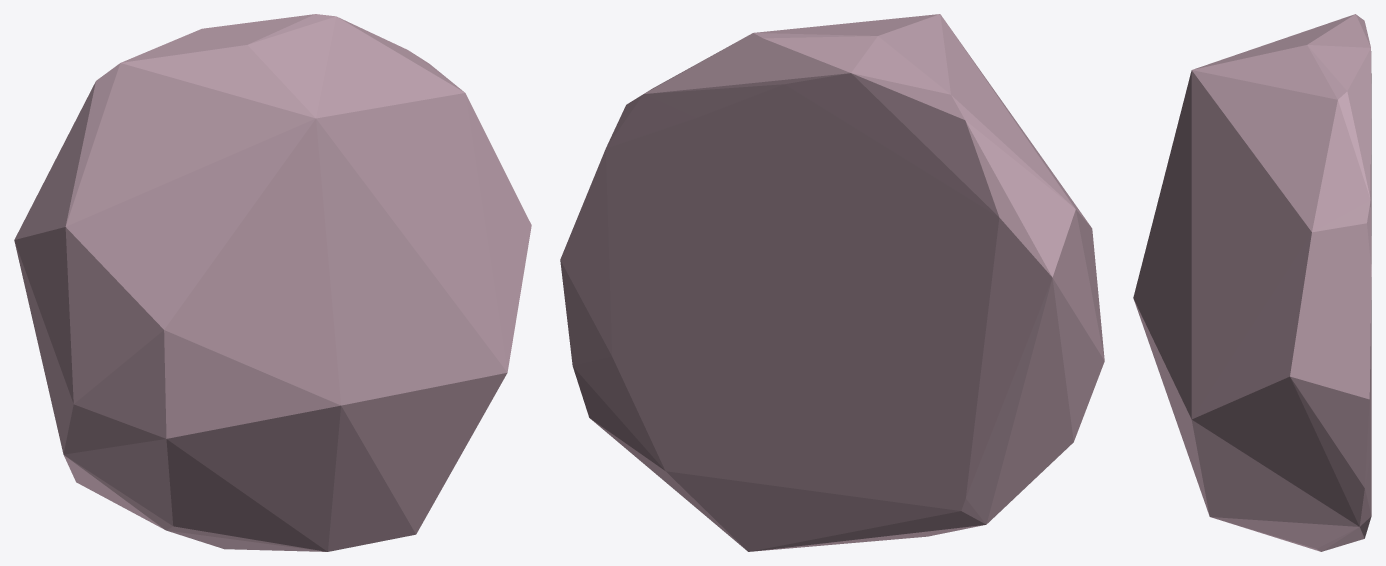
The model's file is food_prepared_bread_panDiCasa_a01.glb.
3 views of the same model, side by side, from view 1: azimuth 30°, elevation 25°; view 2: azimuth 150°, elevation 25°; view 3: azimuth 270°, elevation 25° (orthographic). The views are drawn at different scales.
Visible parts, largest first — view 1: geometry_0; view 2: geometry_0; view 3: geometry_0.
Part boxes in pixels (<box>): geometry_0: <box>14,14,531,551</box>; geometry_0: <box>560,14,1104,551</box>; geometry_0: <box>1133,14,1371,551</box>.
Size of the model in its own units: 0.4594 by 0.4715 by 0.2219.
